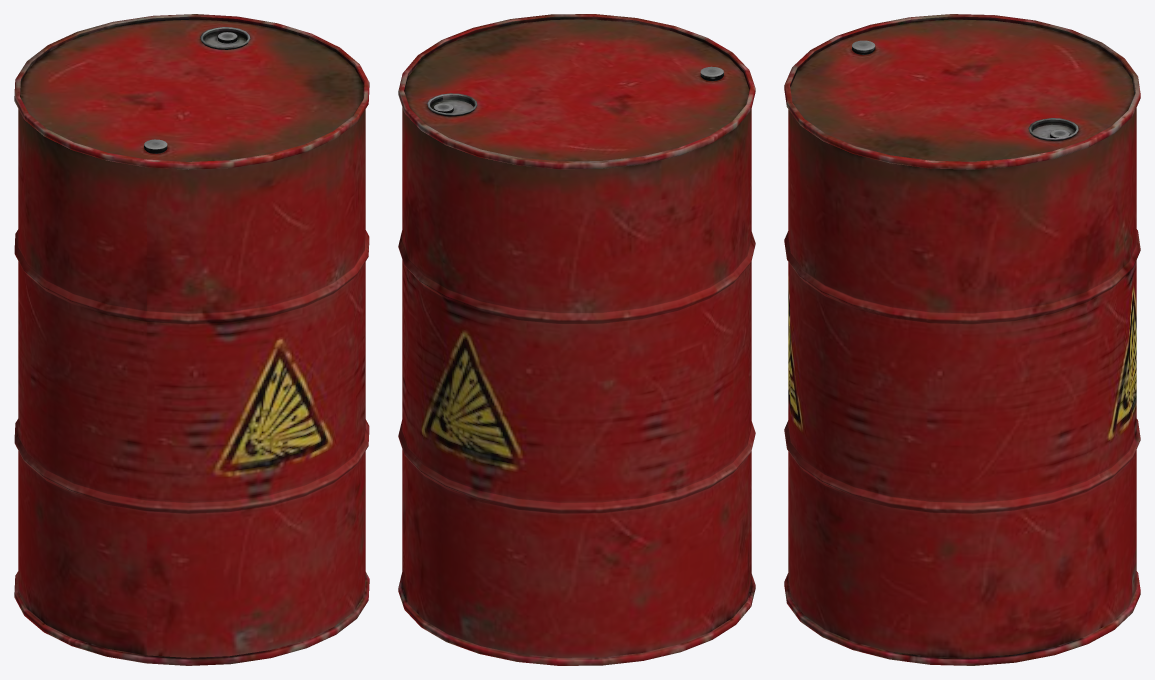
The model's file is barrel.glb.
3 renders of one model, left to right at view 1: azimuth 30°, elevation 25°; view 2: azimuth 150°, elevation 25°; view 3: azimuth 270°, elevation 25°, orthographic.
Visible parts, largest first — view 1: Barrel_01; view 2: Barrel_01; view 3: Barrel_01.
Boxes of the visible parts, x1=… form: Barrel_01: x1=14, y1=14, x2=369, y2=665; Barrel_01: x1=398, y1=14, x2=755, y2=665; Barrel_01: x1=784, y1=14, x2=1140, y2=665.
Bounding box in the file's own units: 0.563 × 0.88 × 0.563.
1 material, 1 textured.
